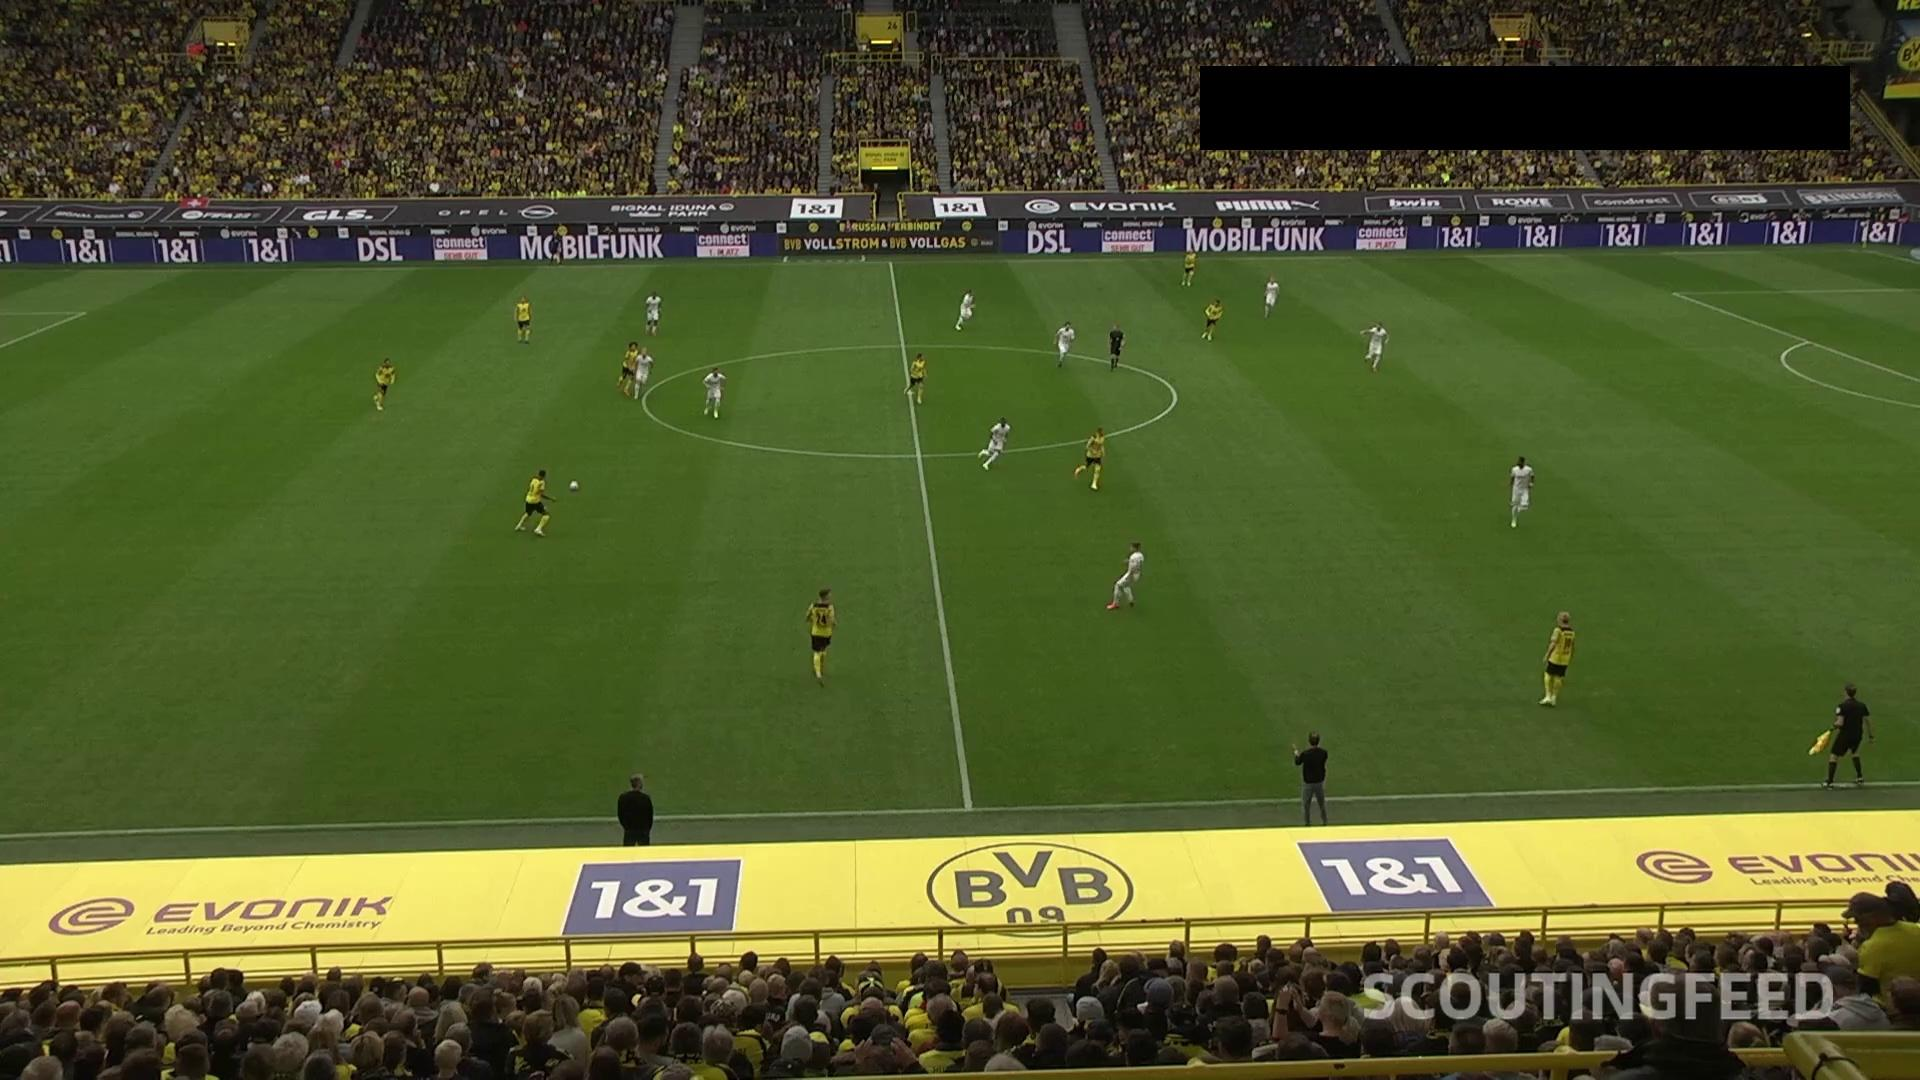Location-of-ball: (562, 465, 583, 506)
